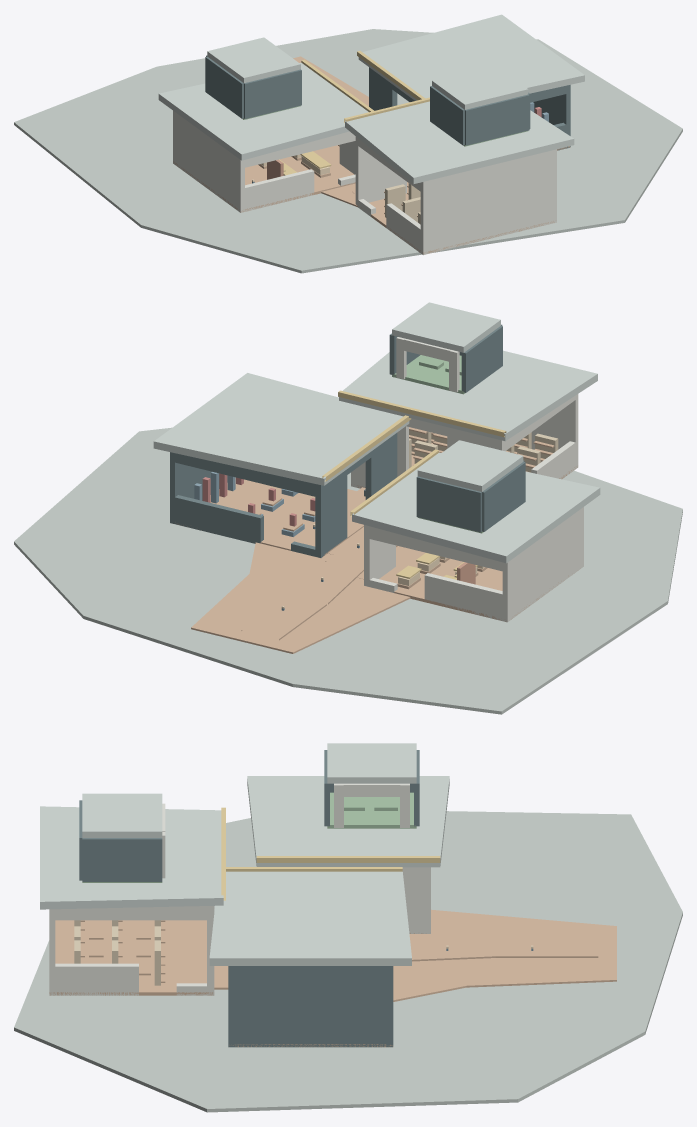
The model's file is a50_three_deep_rooms.glb.
The picture shows the model from 3 angles, top to bottom: view 1: azimuth 30°, elevation 25°; view 2: azimuth 150°, elevation 25°; view 3: azimuth 270°, elevation 25°; orthographic projection. The views are drawn at different scales.
Size of the model in its own units: 151 by 37.1 by 142.
